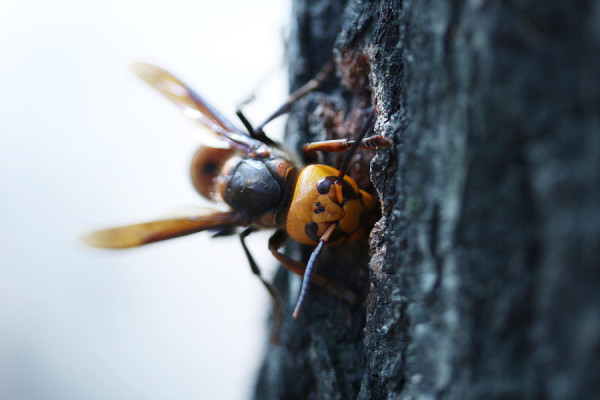asian_giant_hornet: (135, 61, 389, 286)
